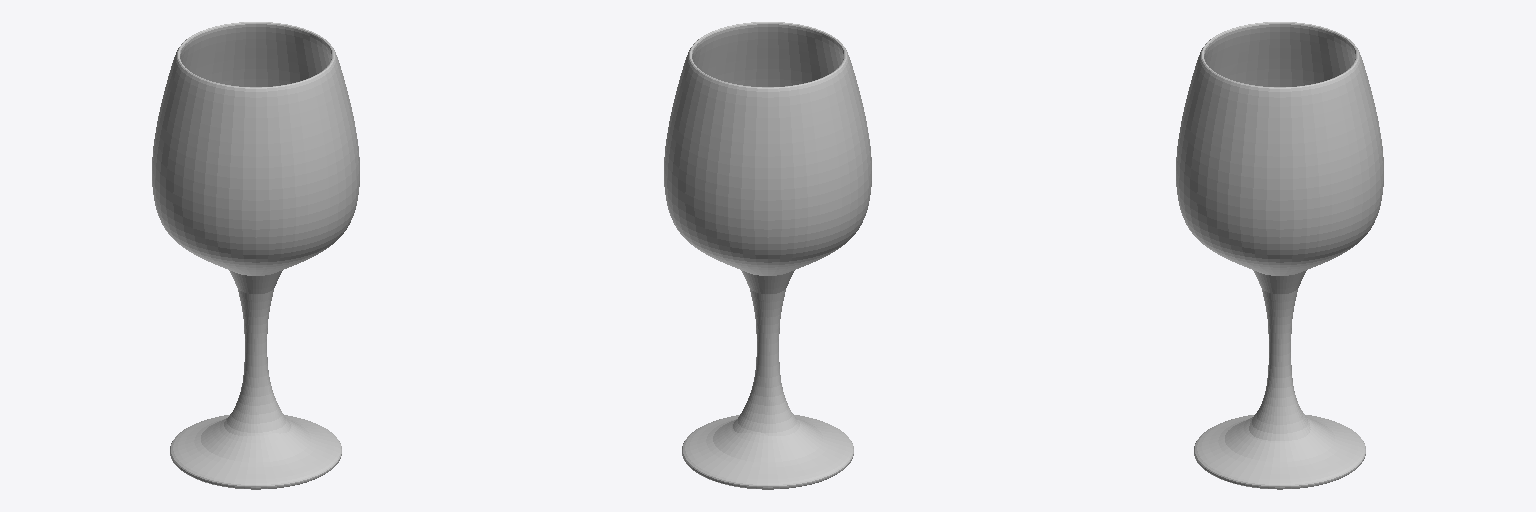
The model's file is glass6.obj.
3 views of the same model, side by side, from view 1: azimuth 30°, elevation 25°; view 2: azimuth 150°, elevation 25°; view 3: azimuth 270°, elevation 25° (orthographic).
Parts seen in each view (by area): view 1: 6; view 2: 6; view 3: 6.
Part boxes in pixels (x1,y1,x2,y2): 6: (152, 22, 359, 489); 6: (664, 22, 871, 489); 6: (1176, 22, 1383, 489).
Size of the model in its own units: 0.8426 by 1.8 by 0.8426.